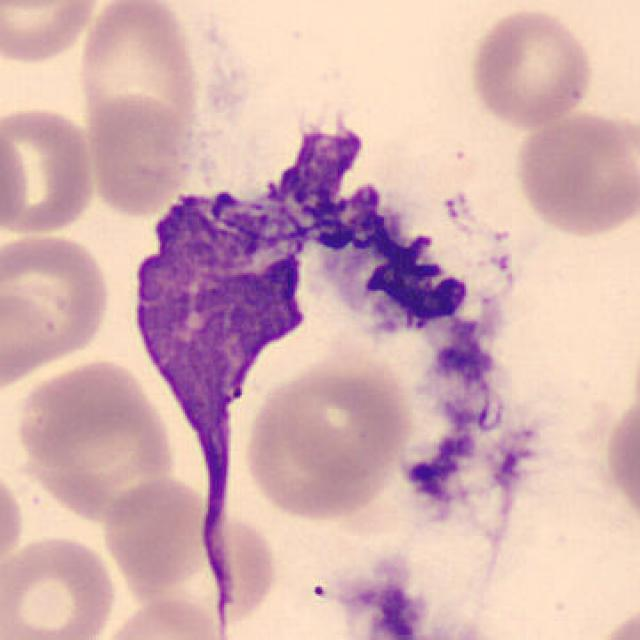Monocyte: (117, 159, 331, 432)
Platelets: (348, 582, 432, 640)
RBC: (238, 352, 418, 526), (11, 354, 180, 524), (74, 0, 204, 159), (0, 228, 114, 390), (510, 108, 638, 240), (466, 4, 597, 130), (80, 92, 199, 218), (233, 567, 434, 640), (98, 472, 213, 596), (0, 101, 100, 238), (0, 530, 121, 640), (217, 504, 283, 635), (0, 0, 105, 67), (92, 594, 224, 640), (601, 384, 640, 536), (0, 104, 32, 238), (0, 456, 28, 580), (588, 599, 640, 640)
